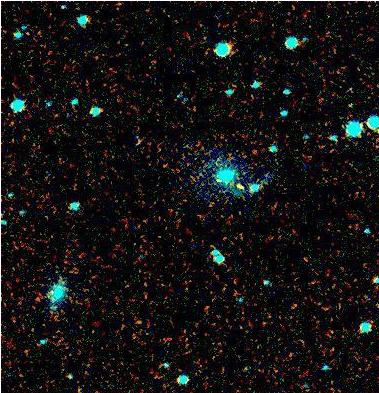star: (222, 170, 252, 200)
